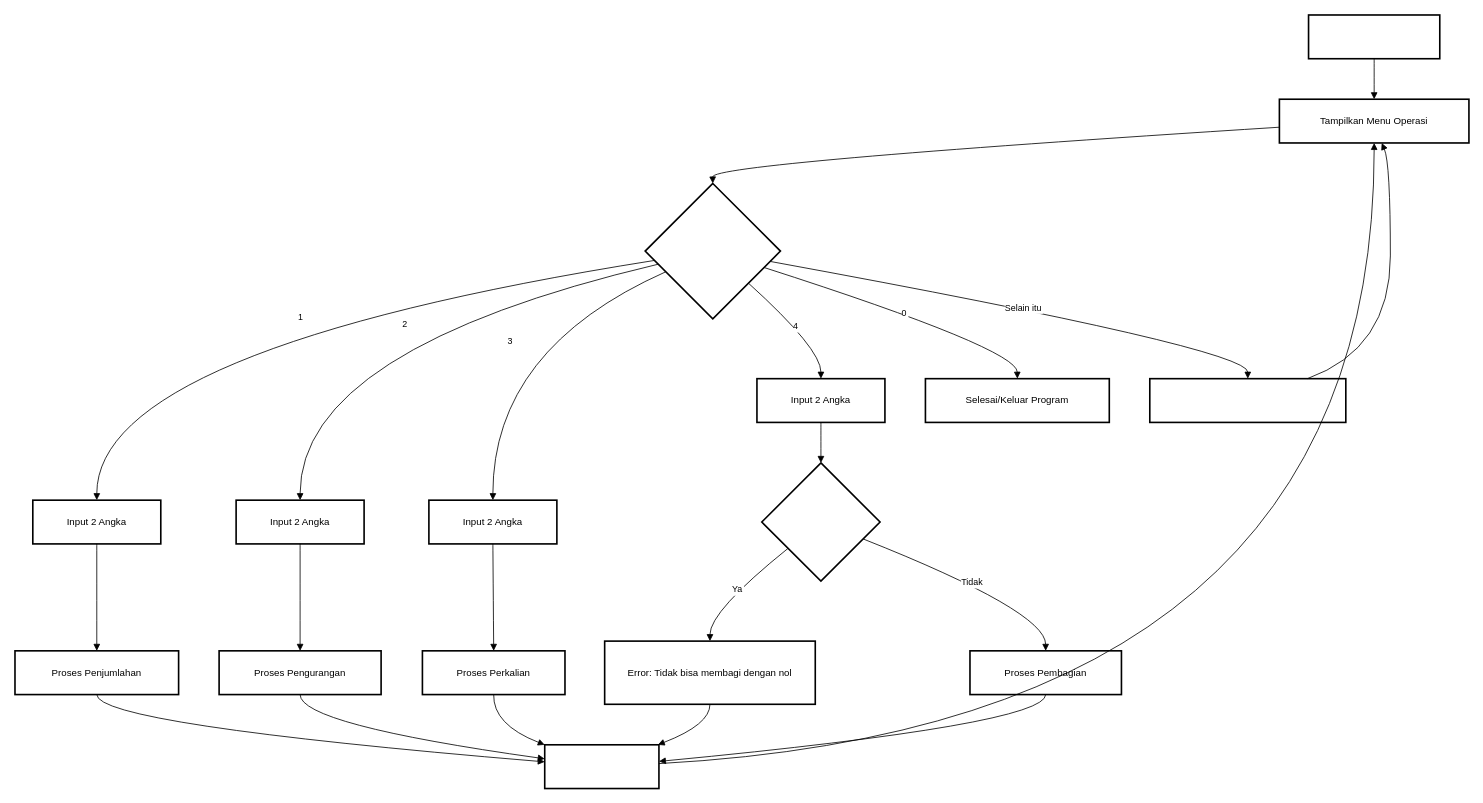
The diagram is 1483 pixels wide and 803 high, and some of its shapes have lost their labels. The box of each missing label's shape, as (x1, y1, x2, y2) in pixels:
Cetak Hasil: (544, 744, 659, 789)
Mulai Program: (1307, 14, 1440, 59)
Pembagi = 0?: (761, 462, 880, 582)
Pesan: Pilihan Tidak Valid: (1149, 377, 1346, 423)
Pilihan Operasi?: (644, 182, 781, 319)
